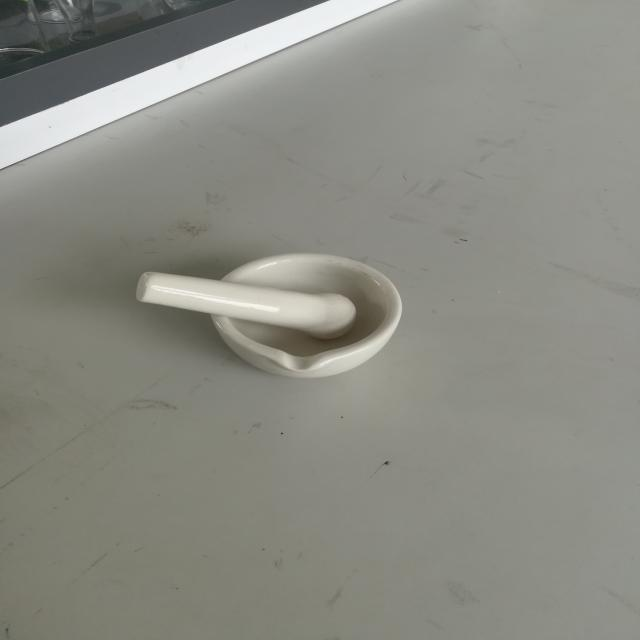Porcelain_Mortar Pestle: (101, 218, 461, 406)
